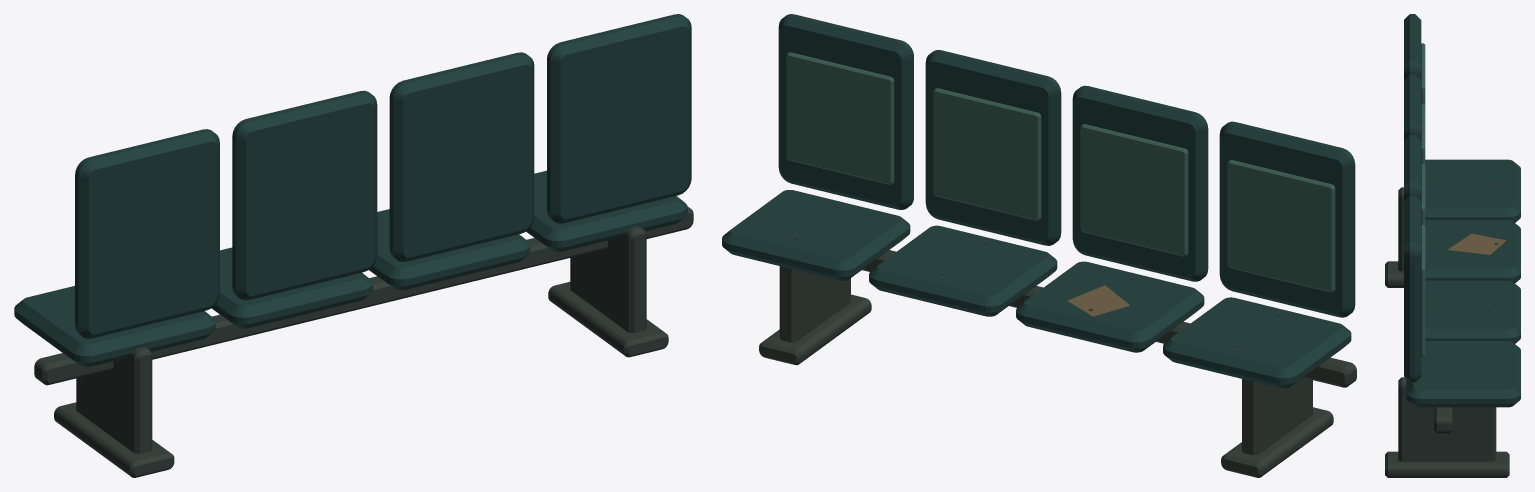
Rendered from public_bench.obj.
The picture shows the model from 3 angles, left to right: view 1: azimuth 30°, elevation 25°; view 2: azimuth 150°, elevation 25°; view 3: azimuth 270°, elevation 25°; orthographic projection. The views are drawn at different scales.
Parts seen in each view (by area): view 1: seat_back, seat, leg, rail, floor_foot; view 2: back_inset, seat_back, seat, leg, floor_foot, rail, seat_wear; view 3: seat, seat_back, leg, floor_foot, back_inset, seat_wear, rail.
Part boxes in pixels (x1=…): seat_back: x1=75, y1=14, x2=691, y2=338; seat: x1=14, y1=170, x2=687, y2=366; leg: x1=76, y1=226, x2=646, y2=453; rail: x1=34, y1=206, x2=693, y2=385; floor_foot: x1=54, y1=282, x2=668, y2=477; back_inset: x1=786, y1=52, x2=1335, y2=292; seat_back: x1=778, y1=14, x2=1355, y2=317; seat: x1=722, y1=190, x2=1351, y2=388; leg: x1=779, y1=266, x2=1312, y2=455; floor_foot: x1=759, y1=294, x2=1333, y2=477; rail: x1=862, y1=250, x2=1356, y2=387; seat_wear: x1=1067, y1=285, x2=1129, y2=316; seat: x1=1406, y1=159, x2=1520, y2=407; seat_back: x1=1404, y1=14, x2=1421, y2=382; leg: x1=1398, y1=187, x2=1496, y2=461; floor_foot: x1=1385, y1=261, x2=1509, y2=477; back_inset: x1=1421, y1=43, x2=1425, y2=356; seat_wear: x1=1447, y1=233, x2=1506, y2=254; rail: x1=1434, y1=407, x2=1452, y2=433.
Size of the model in its own units: 2.9 by 1.34 by 0.665.
